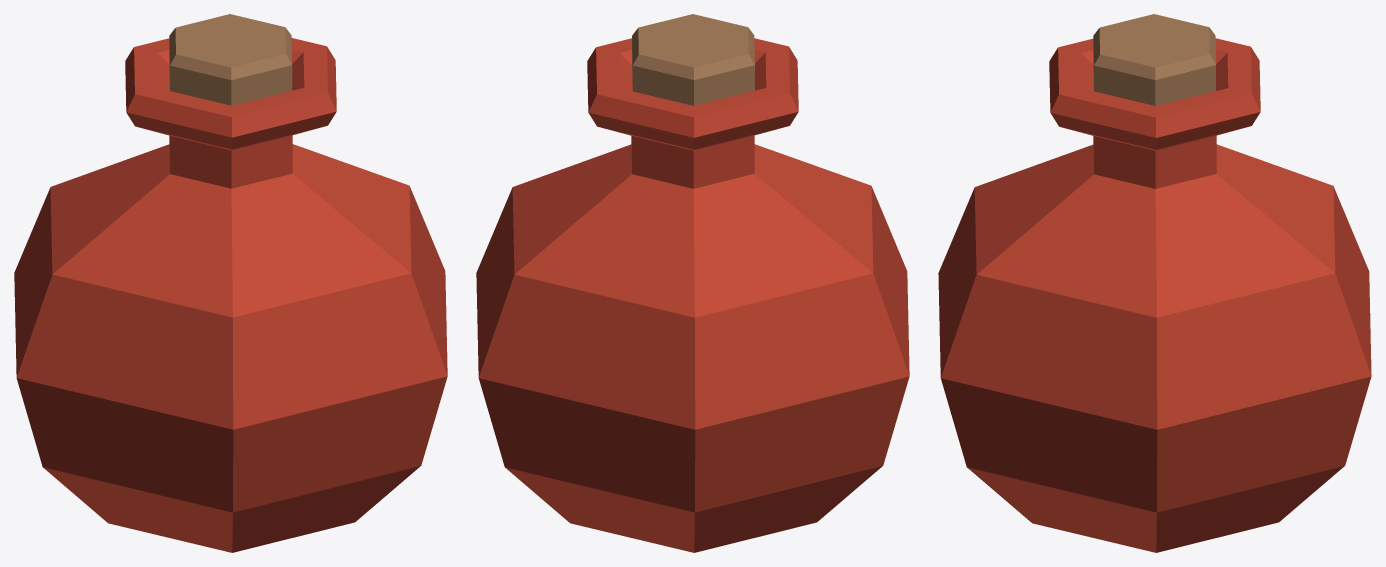
The model's file is potion_9.glb.
The picture shows the model from 3 angles, left to right: view 1: azimuth 30°, elevation 25°; view 2: azimuth 150°, elevation 25°; view 3: azimuth 270°, elevation 25°; orthographic projection.
Parts seen in each view (by area): view 1: potion_9; view 2: potion_9; view 3: potion_9.
Boxes of the visible parts, x1=… form: potion_9: x1=14, y1=14, x2=447, y2=552; potion_9: x1=476, y1=14, x2=909, y2=552; potion_9: x1=938, y1=14, x2=1371, y2=552.
Size of the model in its own units: 0.2073 by 0.2077 by 0.1805.
2 materials, 2 textured.
